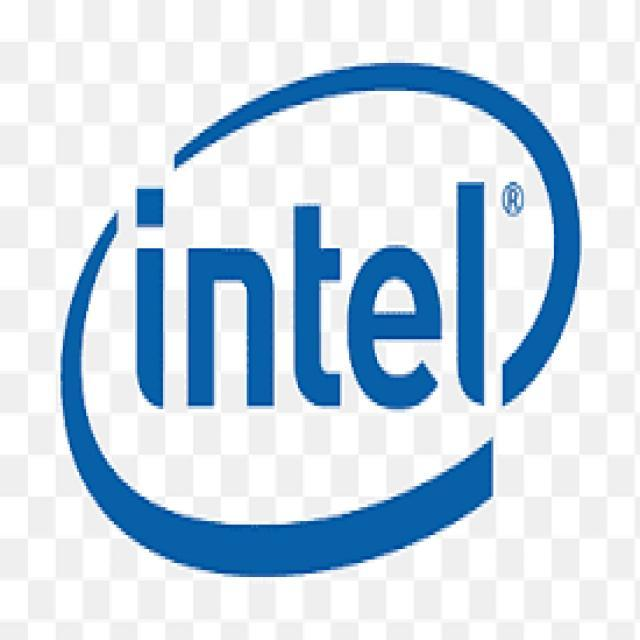intel: (62, 59, 582, 575)
